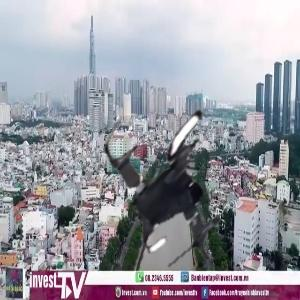drone: (91, 90, 276, 275)
